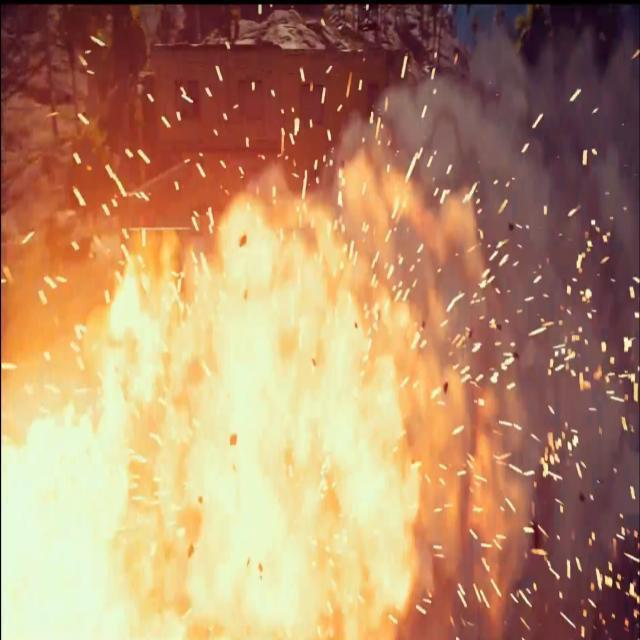fire: (1, 2, 620, 640)
